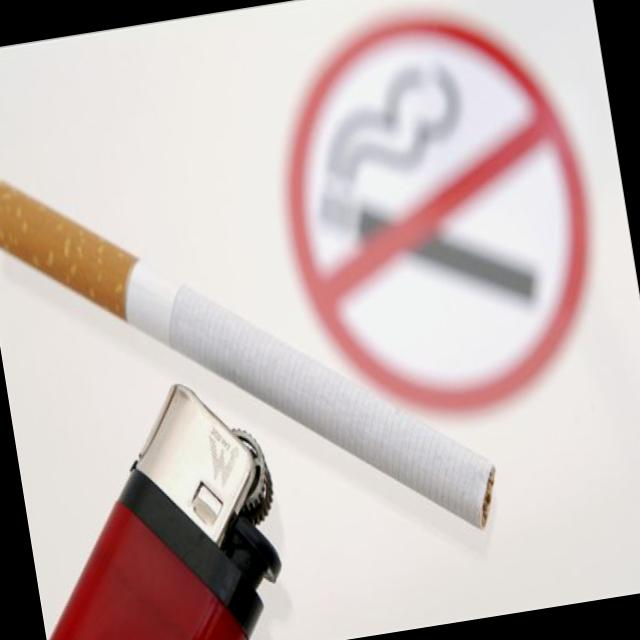cigarette: (0, 97, 536, 598)
